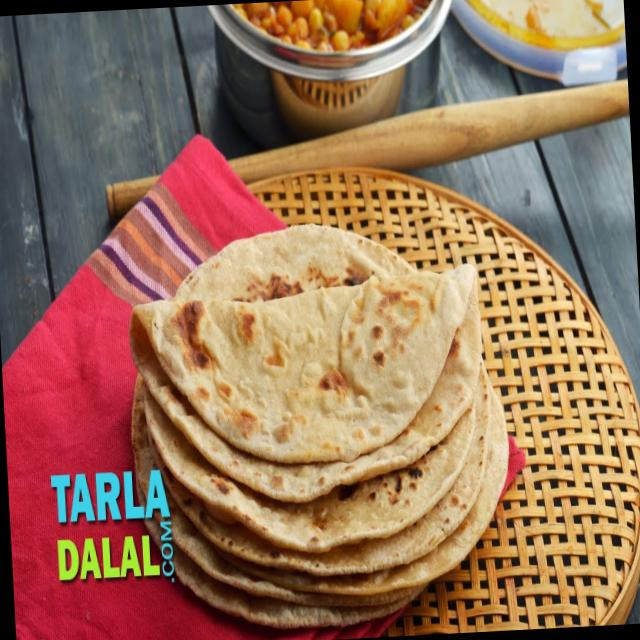roti: (130, 229, 511, 628)
